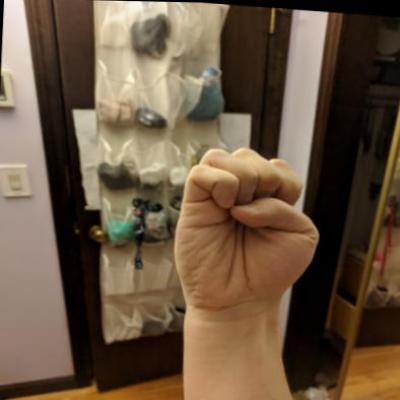hand: (164, 138, 328, 321)
